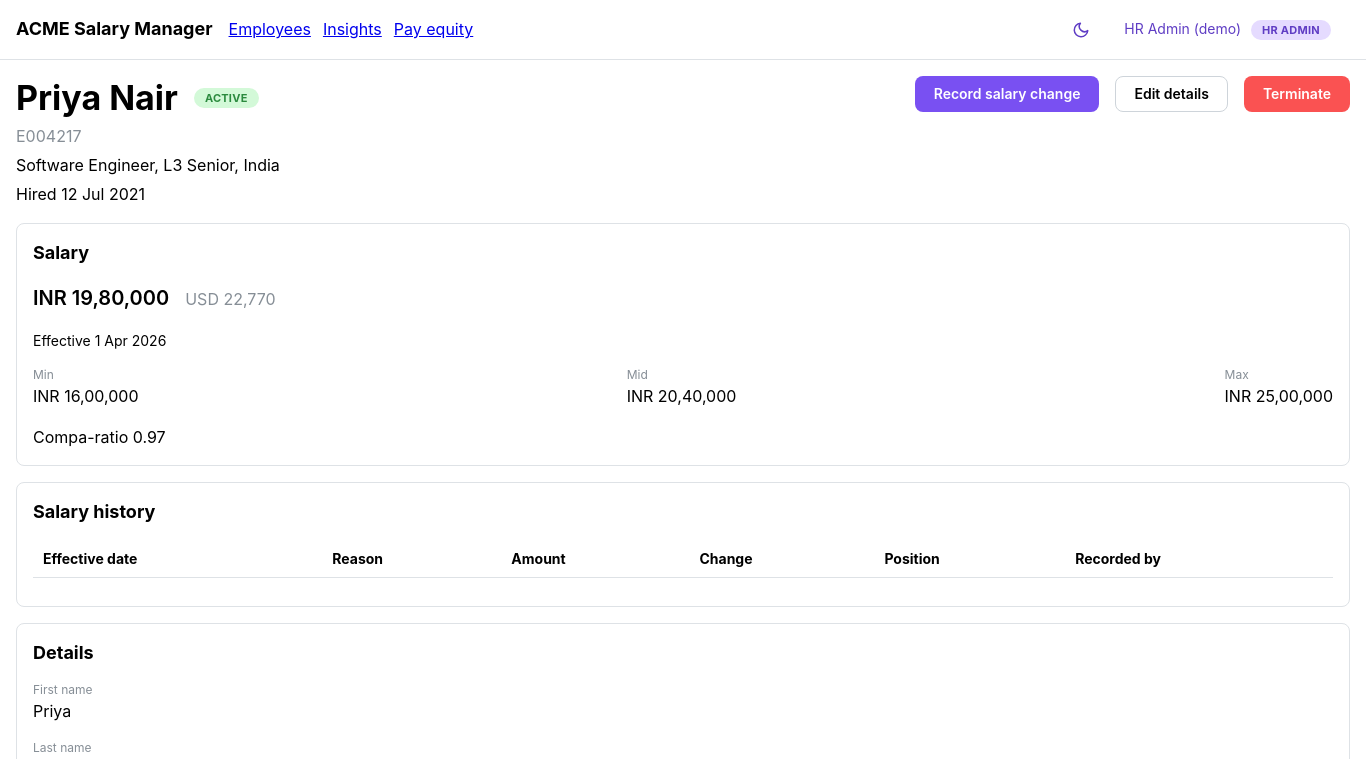
Test: edit details modal (04 section 8.5 S-5) › shows job title, level and country read-only
The image size is (1366, 759).
Click the button "Edit details" at (1172, 94), box [1116,76,1228,112]
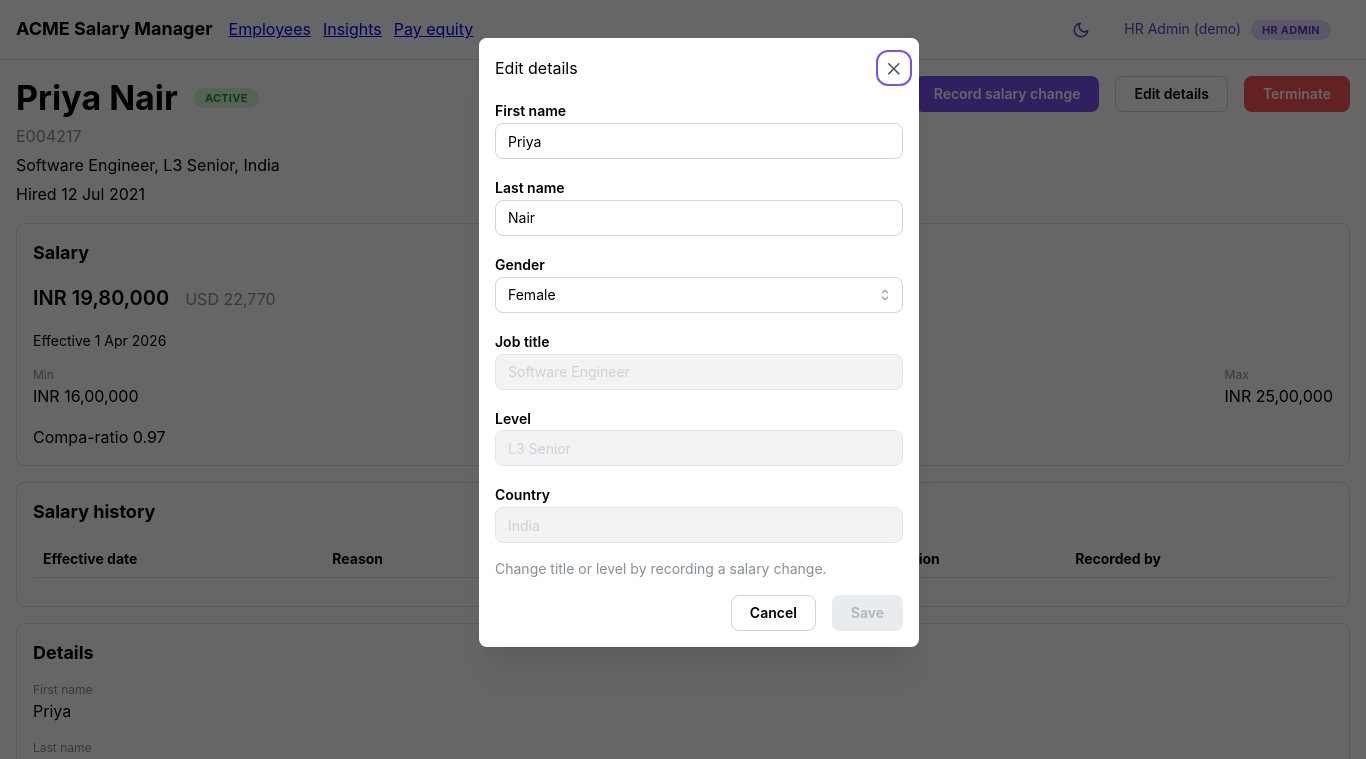
Expected: the field labelled "Job title" holds "Software Engineer", [495,354,903,390]
Expected: the field labelled "Job title" is disabled, [495,354,903,390]
Expected: the field labelled "Level" holds "L3 Senior", [495,430,903,466]
